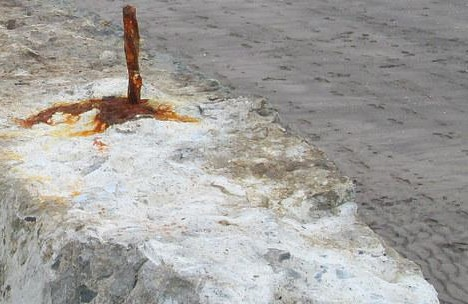Corrosion: (11, 95, 199, 137)
Exposed reinforcement: (121, 4, 143, 104)
